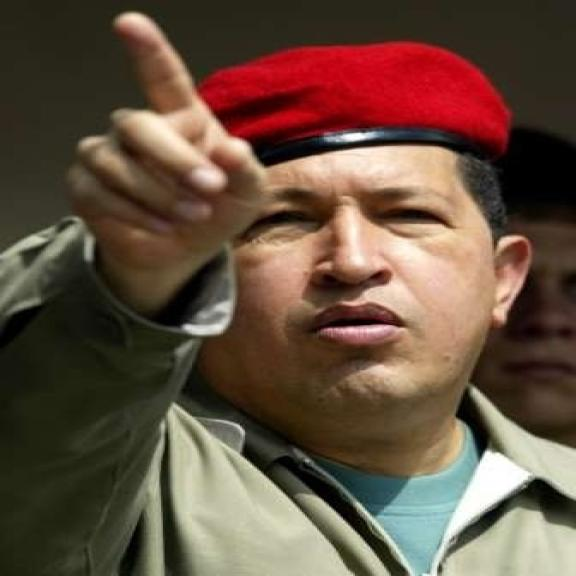face: (195, 136, 535, 424)
